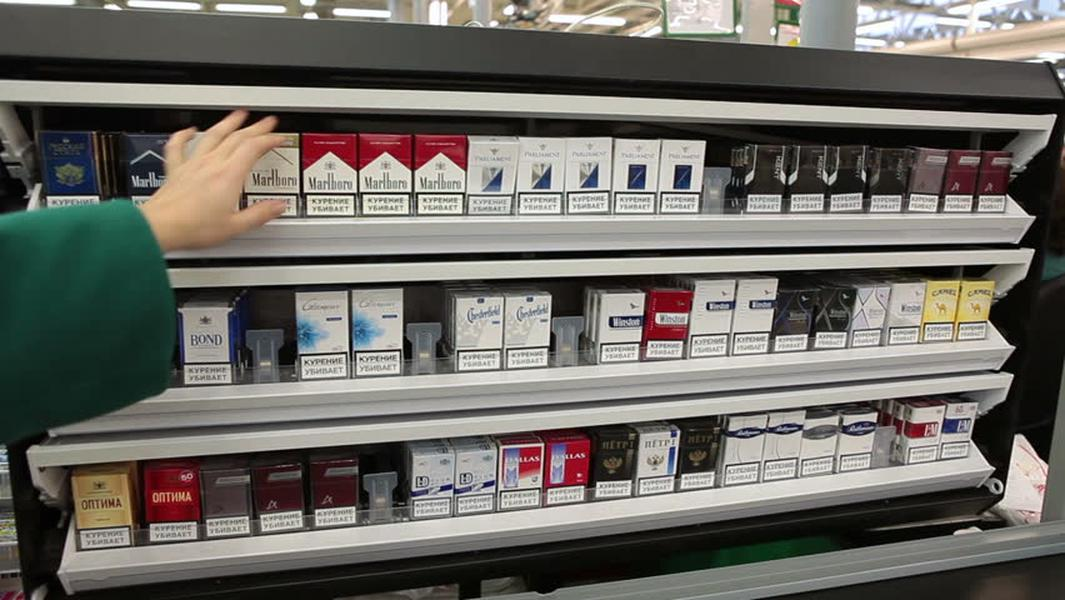chesterfield_blue: (507, 293, 552, 369), (457, 296, 502, 367)
marlboro_gold: (248, 134, 300, 215)
marlboro_red: (300, 134, 355, 219), (413, 135, 467, 215), (361, 135, 409, 215)
